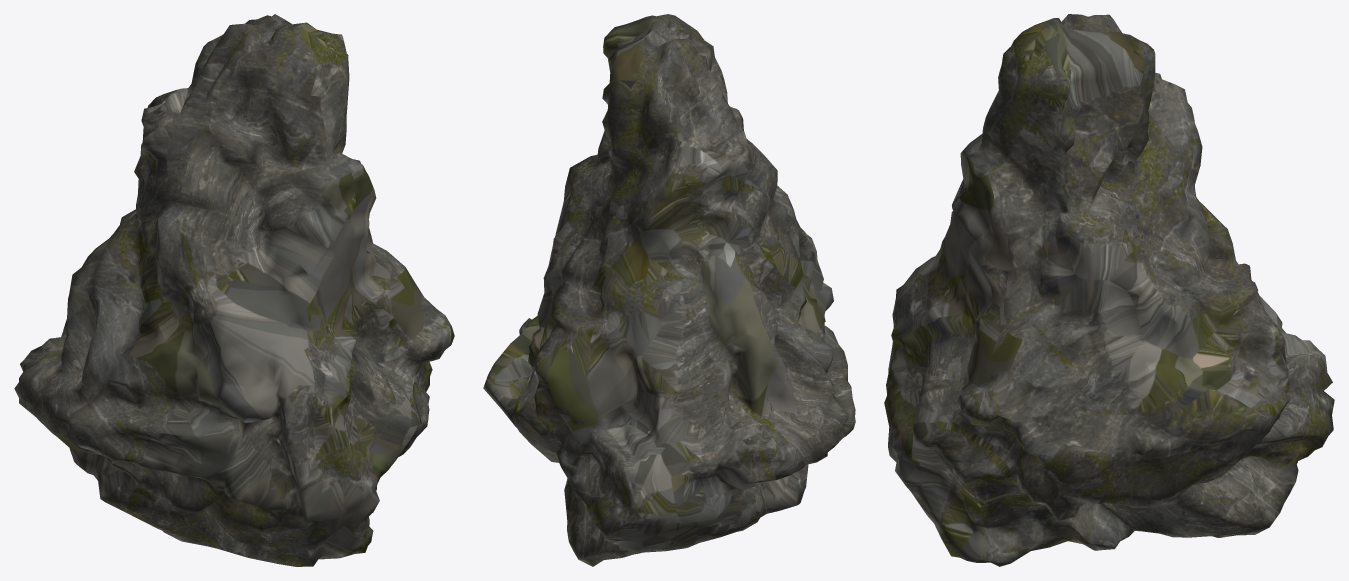
The model's file is SM_RockWall_C.fbx.
3 views of the same model, side by side, from view 1: azimuth 30°, elevation 25°; view 2: azimuth 150°, elevation 25°; view 3: azimuth 270°, elevation 25° (orthographic). The views are drawn at different scales.
Parts seen in each view (by area): view 1: SM_RockWall_C_LOD0; view 2: SM_RockWall_C_LOD0; view 3: SM_RockWall_C_LOD0.
Boxes of the visible parts, bbox=[...] form: SM_RockWall_C_LOD0: bbox=[14, 14, 454, 566]; SM_RockWall_C_LOD0: bbox=[483, 14, 855, 566]; SM_RockWall_C_LOD0: bbox=[884, 14, 1334, 566].
Size of the model in its own units: 1034 by 1107 by 1428.
